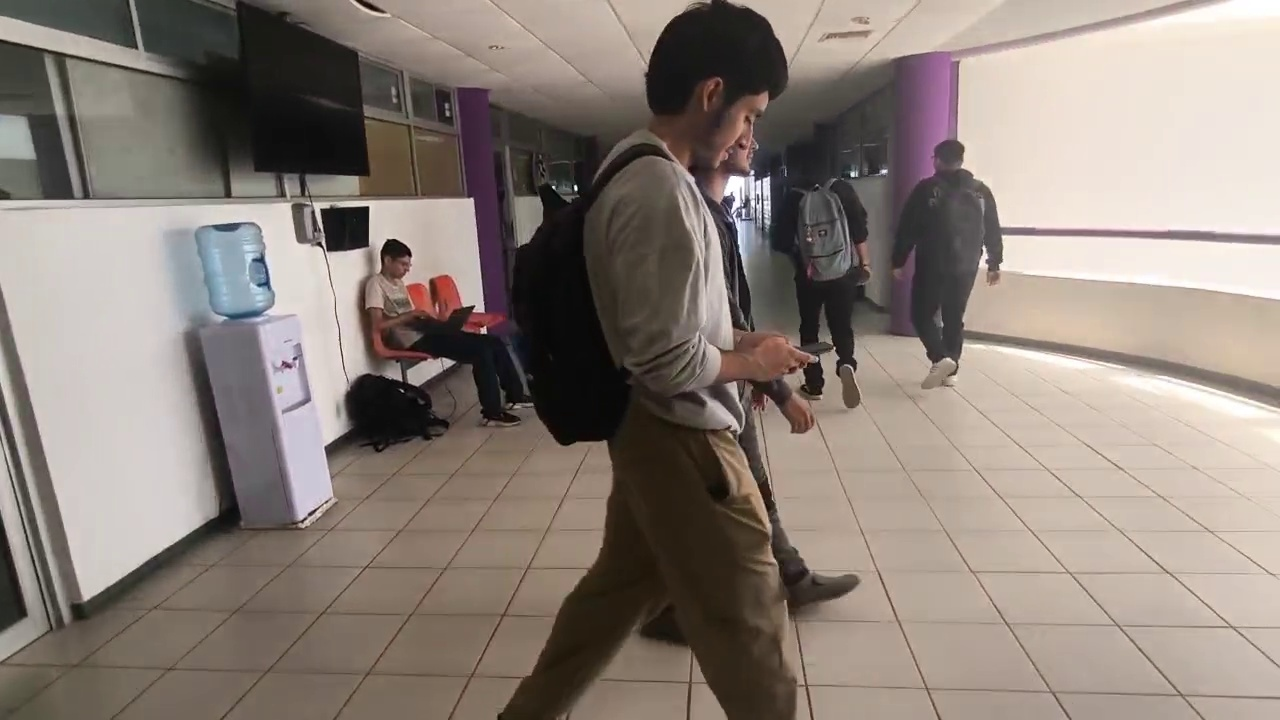mixto2: (785, 336, 842, 364)
